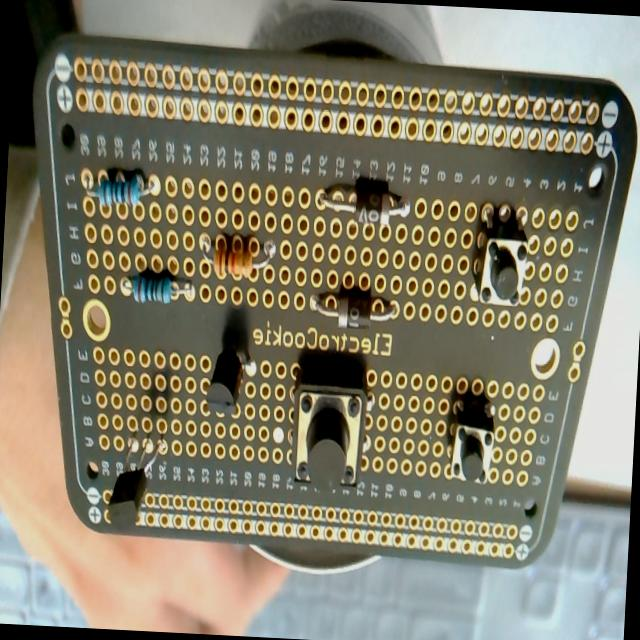diode: (319, 182, 411, 226), (312, 289, 396, 330)
resistor: (199, 232, 276, 282), (86, 169, 158, 213), (121, 272, 196, 307)
switch: (289, 364, 371, 494), (470, 203, 534, 310), (449, 396, 497, 484)
transistor: (107, 430, 167, 534), (203, 344, 262, 417)
